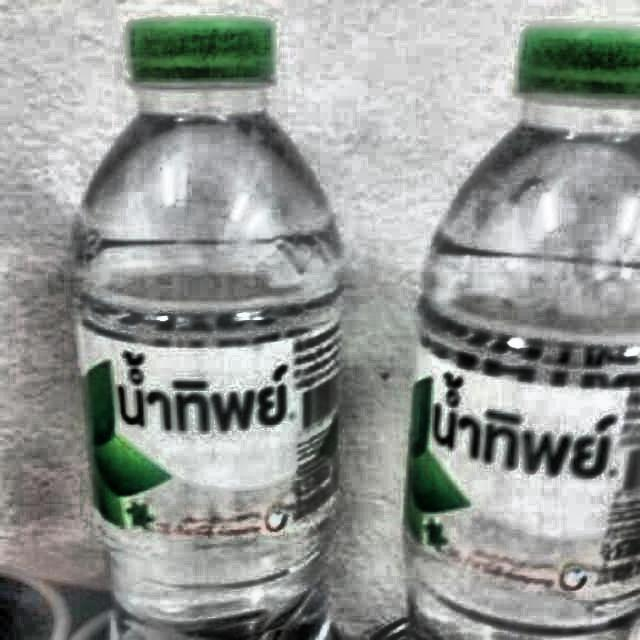Bottles: (63, 11, 339, 640)
